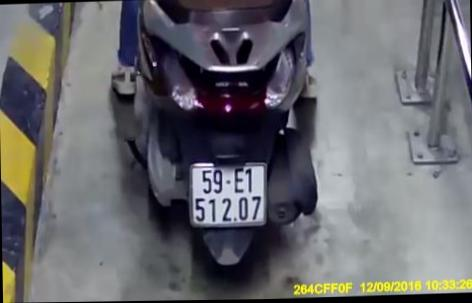LP: (188, 157, 270, 231)
